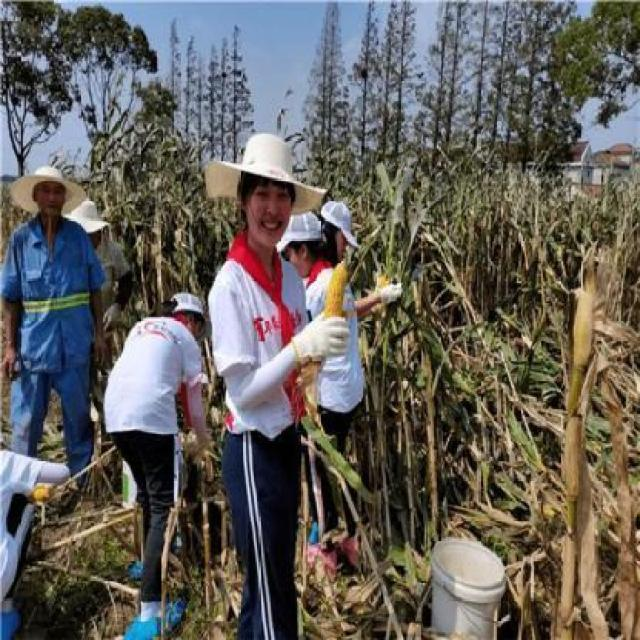face_nomask: (245, 182, 288, 248), (38, 183, 62, 214)
hand_glove: (300, 309, 351, 363), (380, 280, 405, 305)
hand_noglove: (1, 348, 17, 380), (92, 332, 105, 365)
head_nohelmet: (224, 132, 316, 191), (25, 161, 70, 194)
person: (203, 132, 331, 640), (3, 157, 105, 492), (107, 295, 204, 640)
